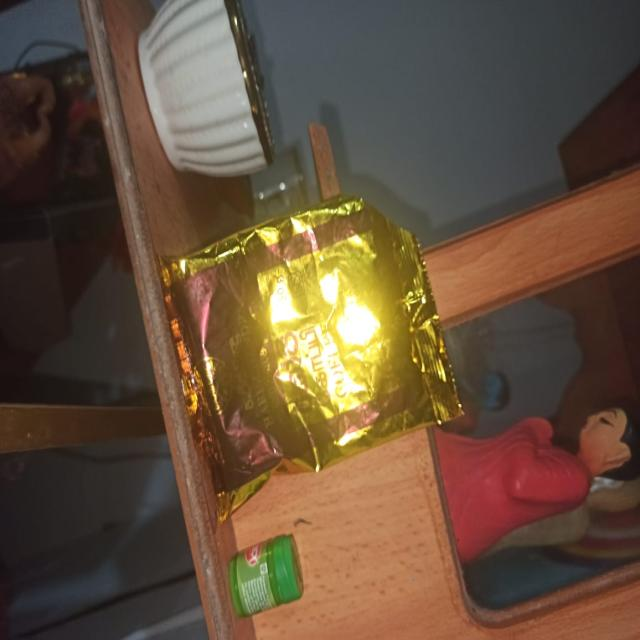Harischandra Coffee: (136, 201, 470, 488)
